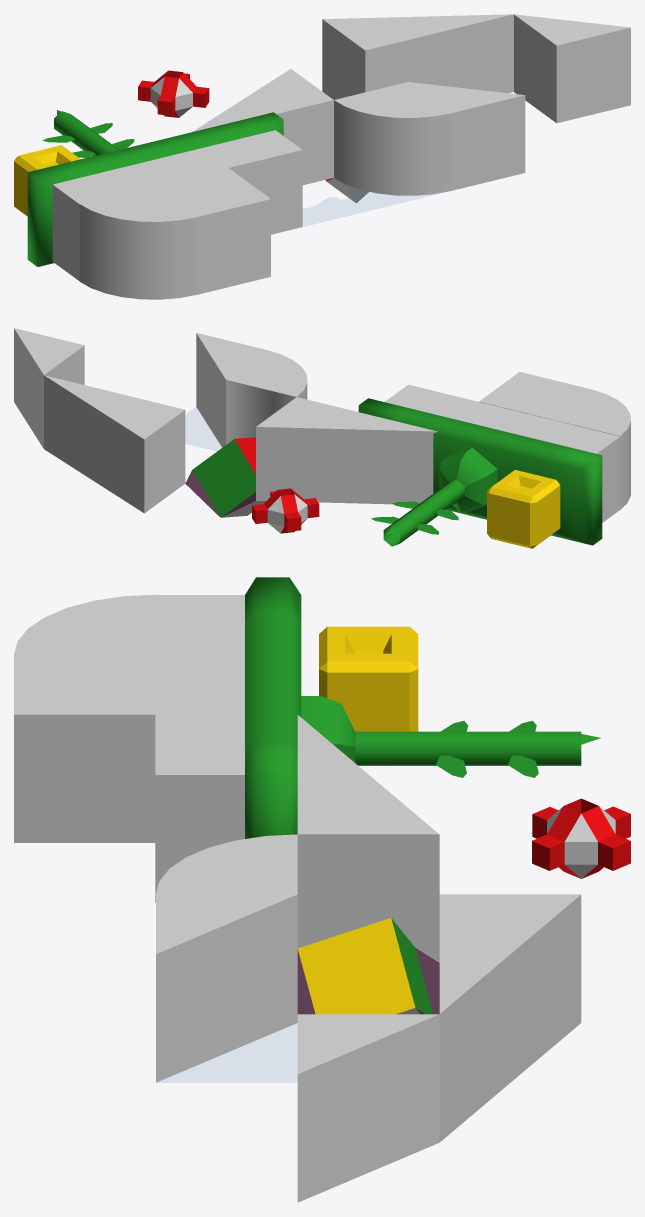
The model's file is platformer_blocks.fbx.
The picture shows the model from 3 angles, top to bottom: view 1: azimuth 30°, elevation 25°; view 2: azimuth 150°, elevation 25°; view 3: azimuth 270°, elevation 25°; orthographic projection. The views are drawn at different scales.
Parts seen in each view (by area): view 1: water-curve-L, curveL, 45-L, block, block-15-a2, grass-Lside, water-45-L, grass-Rside, block-15-b2, block-15a, grass-T, bad-box-X (+5 smaller); view 2: block-15-a2, grass-Lside, block-15a, block-15b, water-curve-L, gold-box-X, grass-T, water-45-L, 45-L, block-15-b2, color-box, grass-Rside (+5 smaller); view 3: block, water-45-L, 45-L, block-15a, grass-Rside, block-15-a2, block-15-b2, color-box, gold-box-X, grass-Lside, grass-T, water-curve-L (+5 smaller).
Boxes of the visible parts, x1,y1,x2,y2 form: water-curve-L: [334, 82, 450, 208]; curveL: [79, 186, 196, 299]; 45-L: [514, 14, 630, 123]; block: [154, 168, 270, 294]; block-15-a2: [322, 16, 439, 99]; grass-Lside: [27, 151, 153, 280]; water-45-L: [408, 82, 525, 190]; grass-Rside: [188, 112, 302, 234]; block-15-b2: [418, 14, 513, 93]; block-15a: [238, 69, 333, 185]; grass-T: [114, 133, 227, 185]; bad-box-X: [138, 70, 209, 117]; block-15-a2: [94, 392, 185, 513]; grass-Lside: [507, 419, 620, 545]; block-15a: [256, 397, 366, 503]; block-15b: [347, 414, 437, 504]; water-curve-L: [226, 350, 307, 444]; gold-box-X: [487, 470, 560, 548]; grass-T: [437, 402, 549, 519]; water-45-L: [186, 333, 266, 450]; 45-L: [14, 328, 84, 448]; block-15-b2: [44, 375, 113, 480]; color-box: [185, 437, 265, 517]; grass-Rside: [358, 384, 478, 493]; block: [14, 654, 155, 842]; water-45-L: [156, 894, 297, 1082]; 45-L: [297, 1014, 439, 1202]; block-15a: [297, 774, 439, 962]; grass-Rside: [155, 706, 297, 902]; block-15-a2: [439, 894, 581, 1082]; block-15-b2: [439, 954, 510, 1142]; color-box: [297, 918, 439, 1014]; gold-box-X: [319, 626, 418, 731]; grass-Lside: [156, 577, 301, 657]; grass-T: [156, 646, 301, 717]; water-curve-L: [156, 834, 297, 894].
Bounding box in the file's own units: 1631 × 330 × 870.
